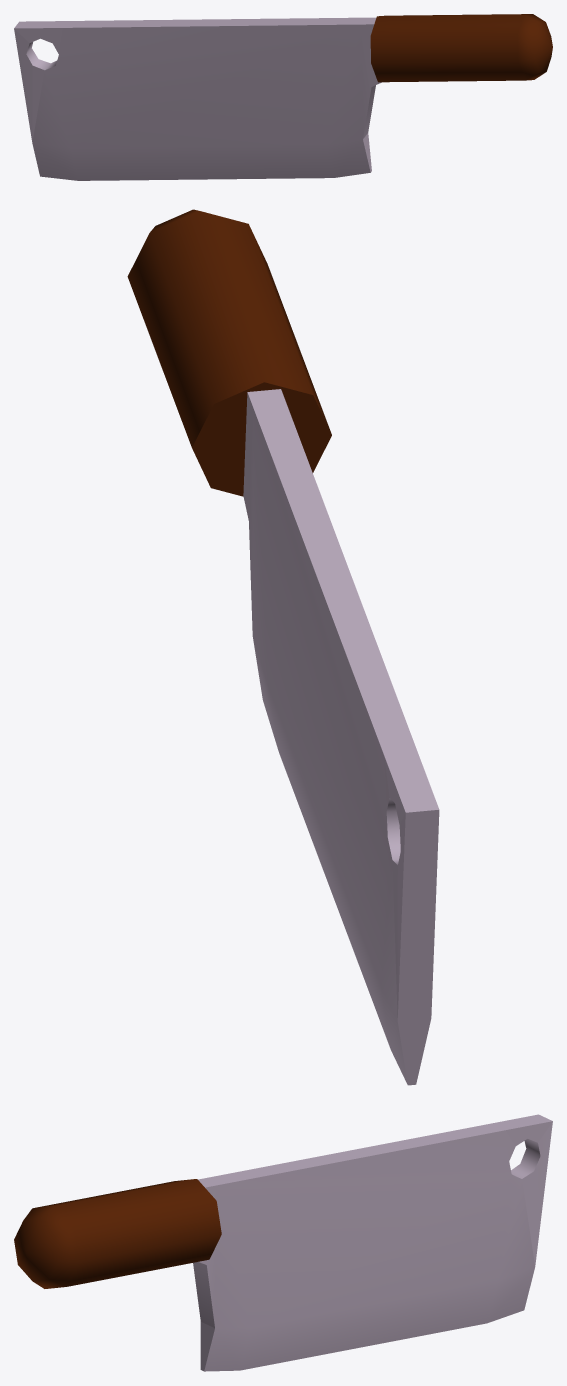
File: Hat_87_01.fbx
The picture shows the model from 3 angles, top to bottom: view 1: azimuth 30°, elevation 25°; view 2: azimuth 150°, elevation 25°; view 3: azimuth 270°, elevation 25°; orthographic projection. The views are drawn at different scales.
Visible parts, largest first — view 1: Hat_87_01; view 2: Hat_87_01; view 3: Hat_87_01.
Boxes of the visible parts, x1,y1,x2,y2 form: Hat_87_01: (14, 14, 552, 180); Hat_87_01: (127, 209, 439, 1085); Hat_87_01: (14, 1114, 552, 1371).
Bounding box in the file's own units: 29.22 × 18.45 × 31.98.
